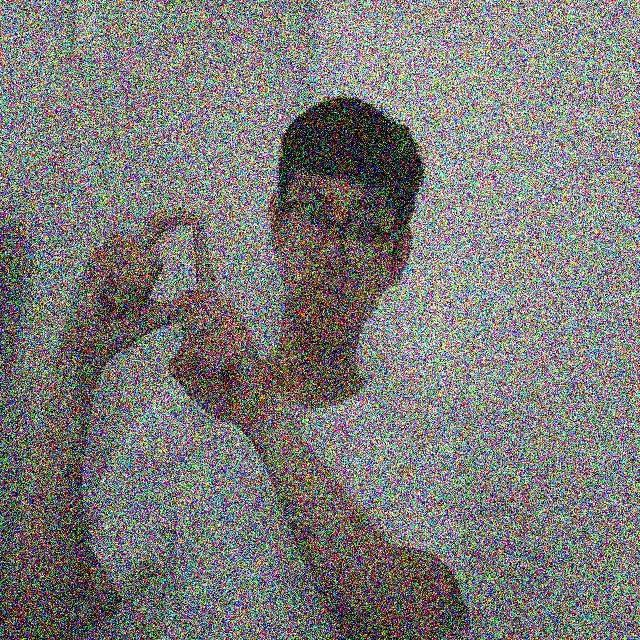D: (98, 188, 248, 378)
